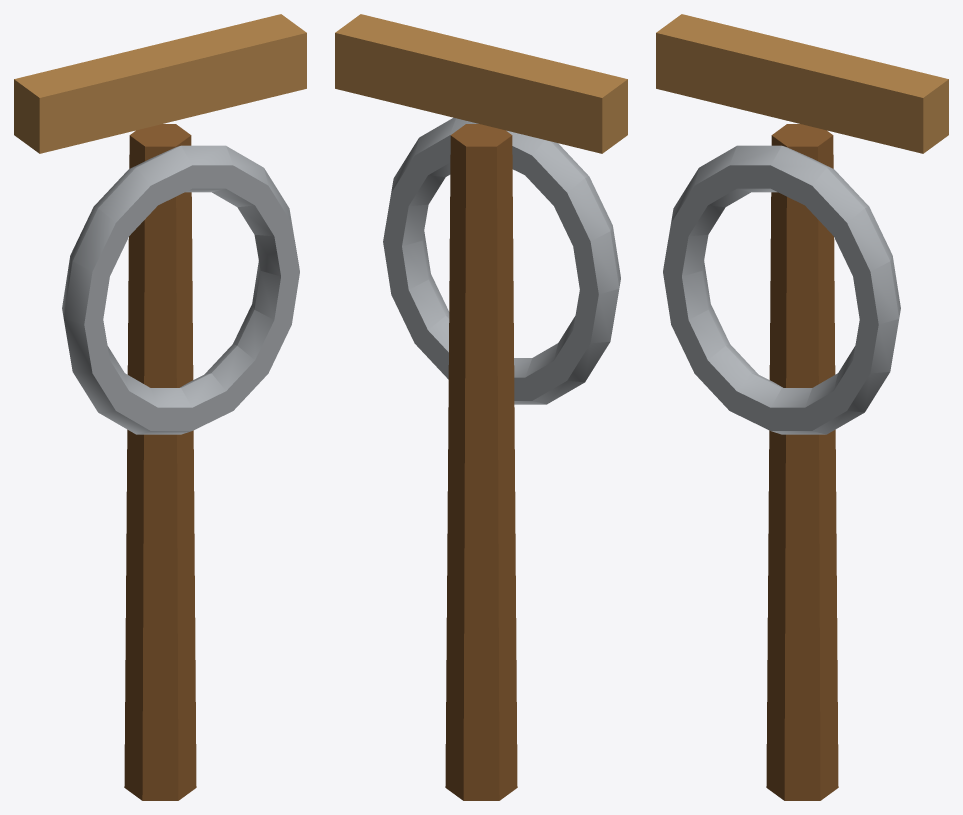
Rendered from lucky_horseshoe.glb.
3 renders of one model, left to right at view 1: azimuth 30°, elevation 25°; view 2: azimuth 150°, elevation 25°; view 3: azimuth 330°, elevation 25°, orthographic.
Parts seen in each view (by area): view 1: decor-lucky_horseshoe; view 2: decor-lucky_horseshoe; view 3: decor-lucky_horseshoe.
Part boxes in pixels (x1,y1,x2,y2): decor-lucky_horseshoe: (14,14,306,800); decor-lucky_horseshoe: (335,14,627,800); decor-lucky_horseshoe: (656,14,948,800).
Size of the model in its own units: 0.5999 by 1.57 by 0.1932.
